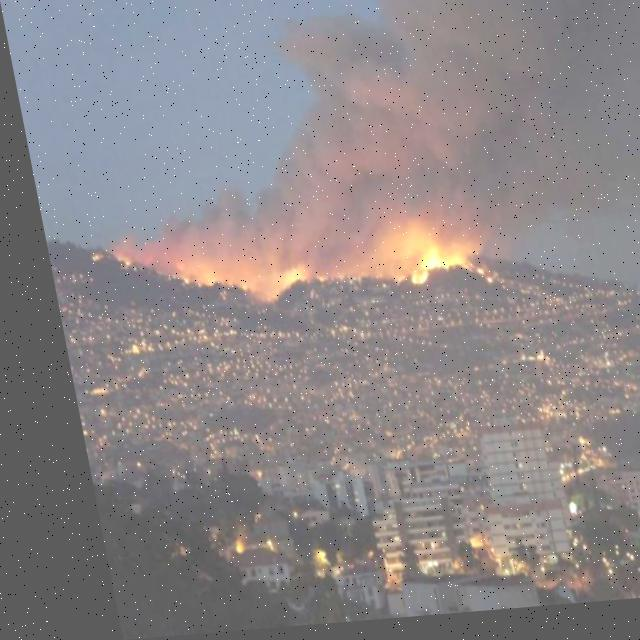Fire: (389, 248, 474, 294)
